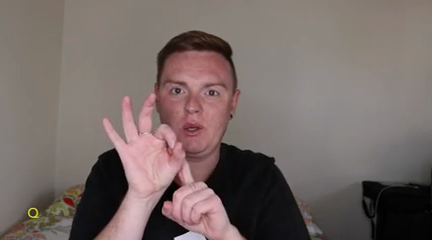Q: (95, 92, 235, 240)
